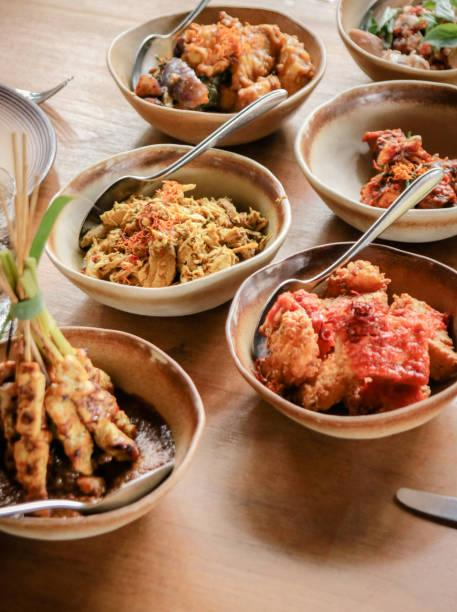Braised Crucian Carp: (232, 236, 457, 434), (4, 327, 202, 541), (44, 144, 290, 315), (105, 6, 326, 146), (300, 80, 457, 246)
